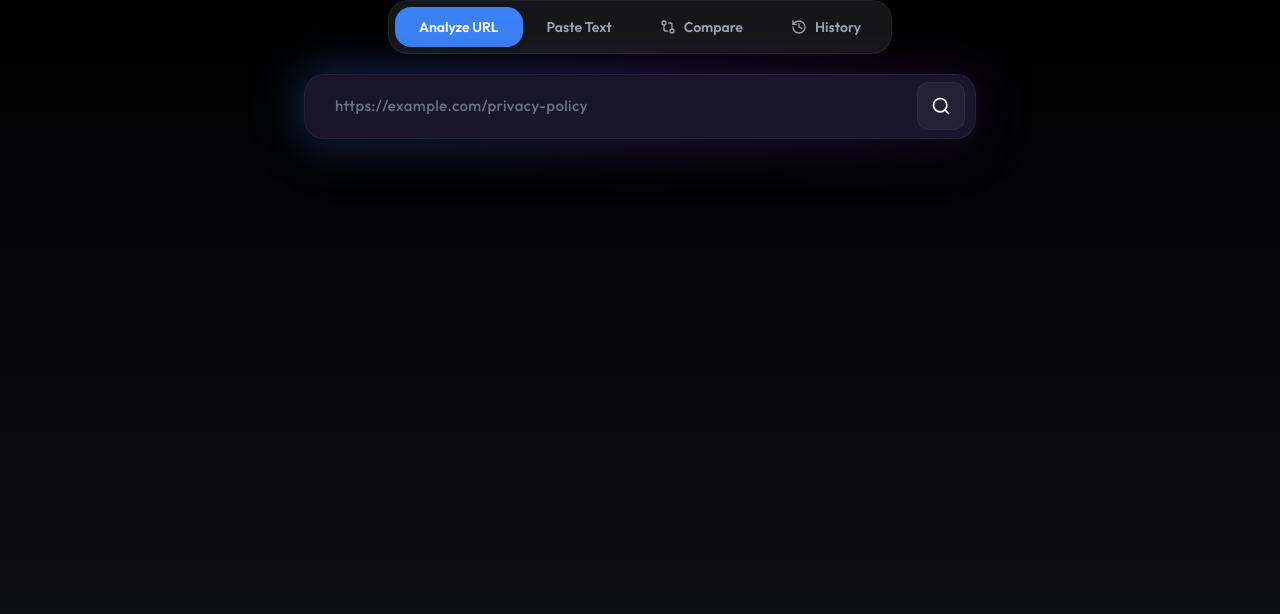
Scenario: PolicyAnalyzer Component › switches to Text tab when clicked
The image size is (1280, 614).
Click the tab "Paste Text": (579, 27) [522,7,636,47]
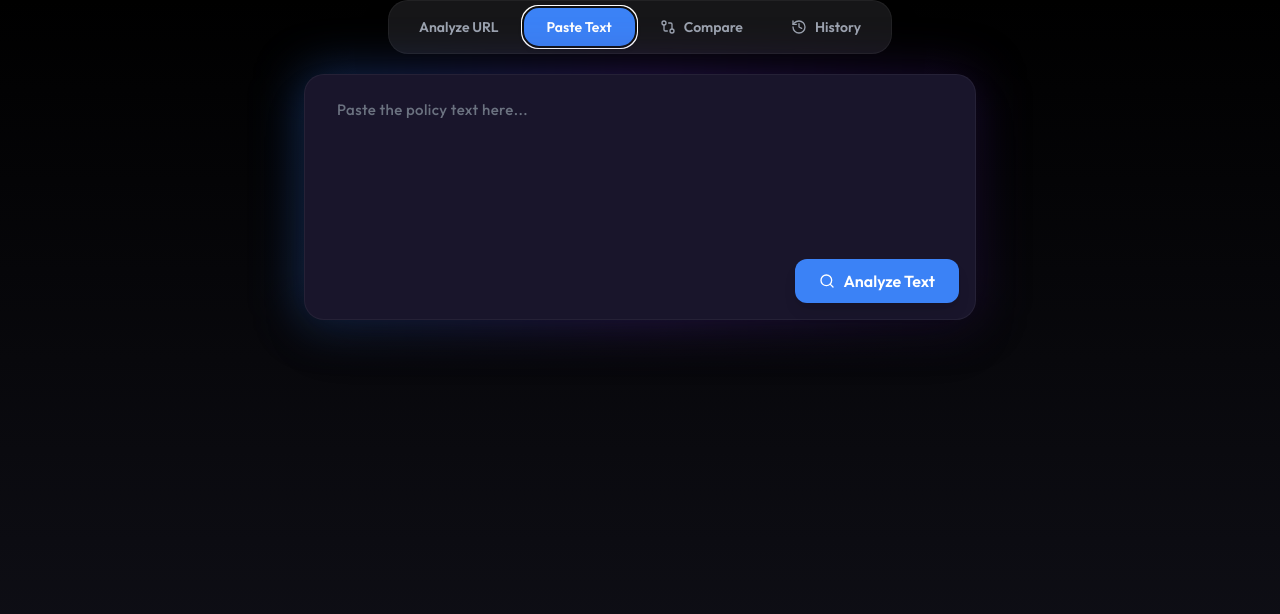
Expected: the text box named "Privacy Policy Text" is shown, [313,83,967,243]
